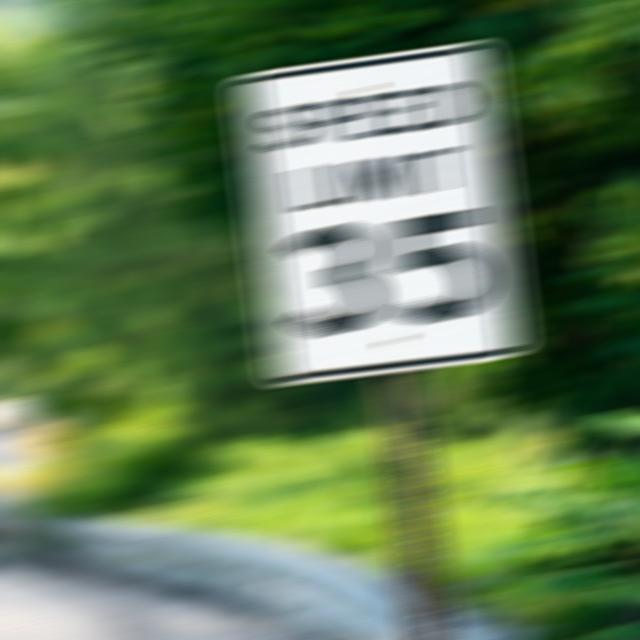speedLimit35: (218, 44, 530, 383)
